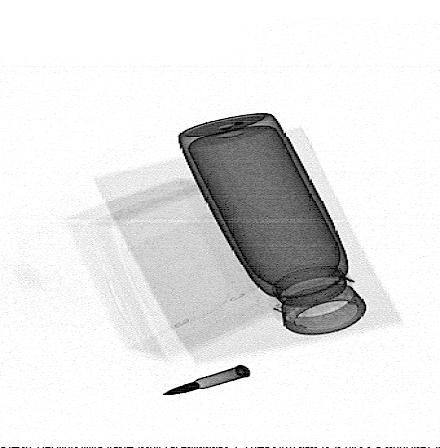Bullet: (161, 364, 250, 396)
